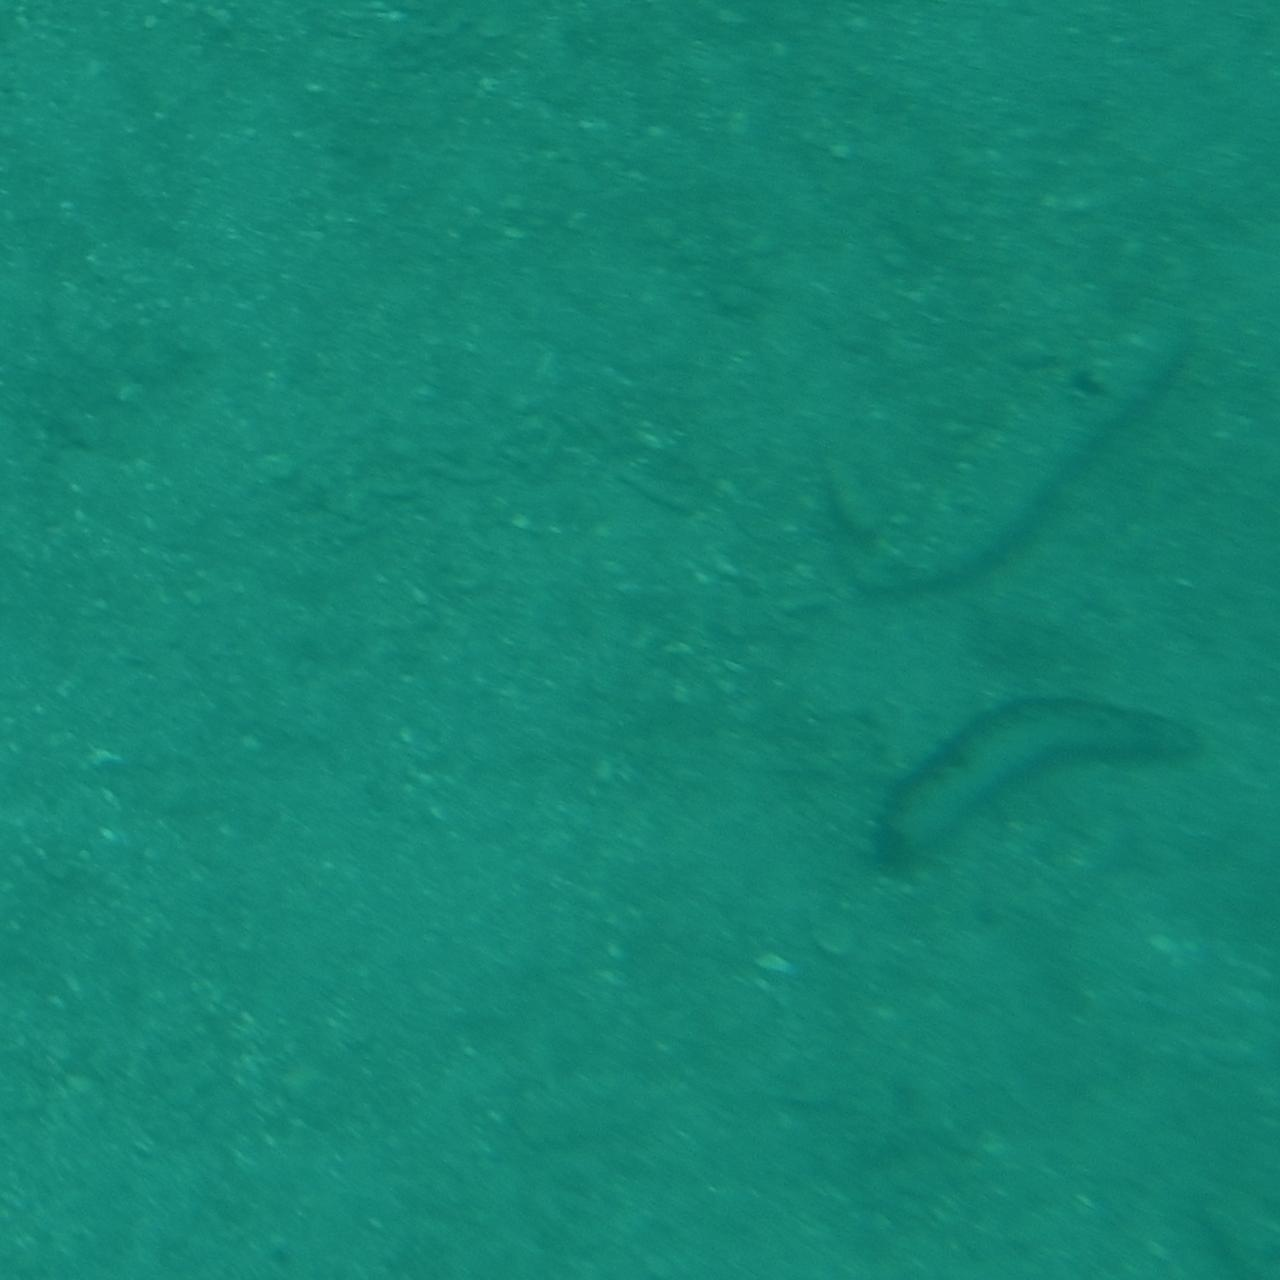Holothuria tubulosa: (852, 284, 1234, 614), (847, 708, 1267, 956)
